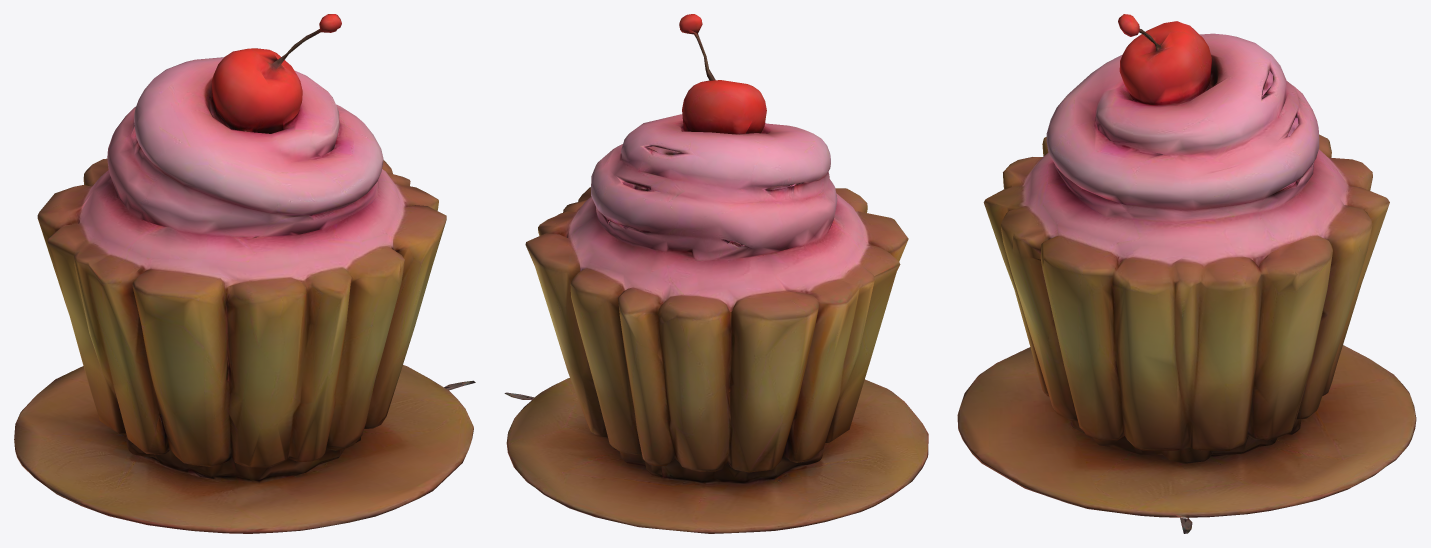
File: cupcake.glb
The picture shows the model from 3 angles, left to right: view 1: azimuth 30°, elevation 25°; view 2: azimuth 150°, elevation 25°; view 3: azimuth 270°, elevation 25°; orthographic projection. The views are drawn at different scales.
Parts seen in each view (by area): view 1: Mesh_0; view 2: Mesh_0; view 3: Mesh_0.
Boxes of the visible parts, box(x1,y1,x2,y2) form: Mesh_0: box(14, 14, 475, 533); Mesh_0: box(504, 14, 928, 533); Mesh_0: box(957, 14, 1416, 533).
Size of the model in its own units: 2 by 1.91 by 1.83.
Materials: 1 (1 with a texture image).
